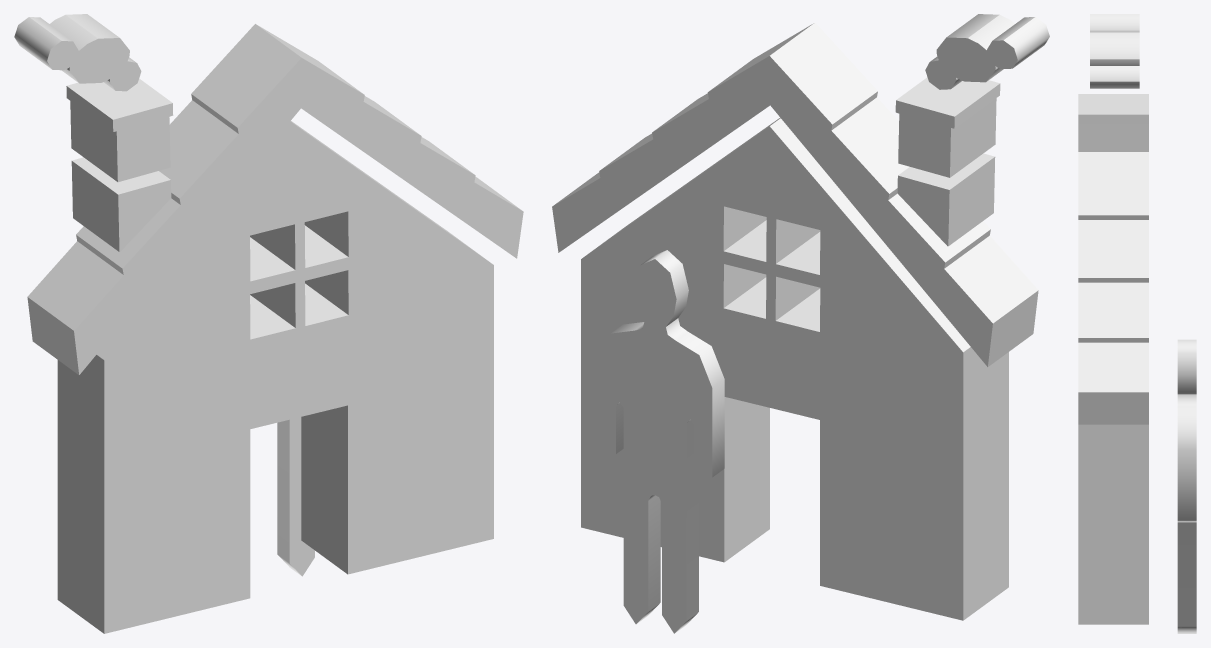
File: saveicon.ico.obj
3 renders of one model, left to right at view 1: azimuth 30°, elevation 25°; view 2: azimuth 150°, elevation 25°; view 3: azimuth 270°, elevation 25°, orthographic. The views are drawn at different scales.
Size of the model in its own units: 3.77 by 5 by 1.08.
Materials: 1 (1 with a texture image).
